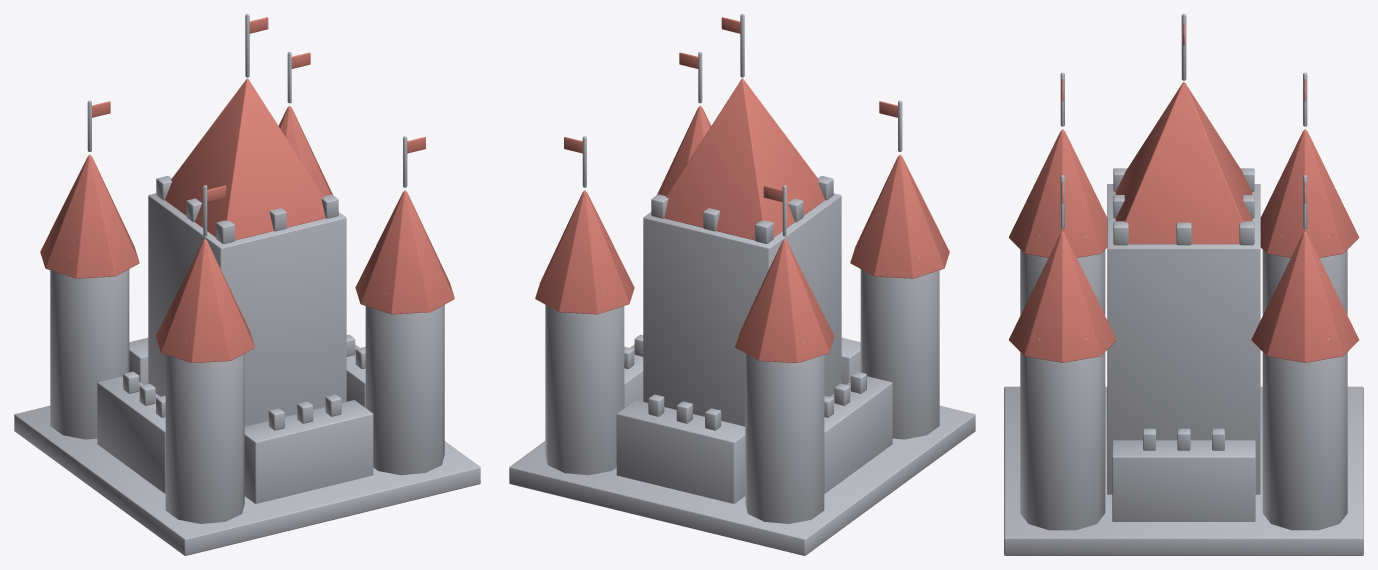
File: castle_t4.glb
The picture shows the model from 3 angles, left to right: view 1: azimuth 30°, elevation 25°; view 2: azimuth 150°, elevation 25°; view 3: azimuth 270°, elevation 25°; orthographic projection. The views are drawn at different scales.
Parts seen in each view (by area): view 1: stone, roof; view 2: stone, roof; view 3: stone, roof.
Boxes of the visible parts, x1,y1,x2,y2 form: stone: [14, 14, 480, 555]; roof: [40, 17, 454, 362]; stone: [509, 14, 975, 555]; roof: [535, 17, 949, 362]; stone: [1004, 14, 1363, 555]; roof: [1008, 23, 1359, 362].
Bounding box in the file's own units: 3.56 × 5.09 × 3.56.
